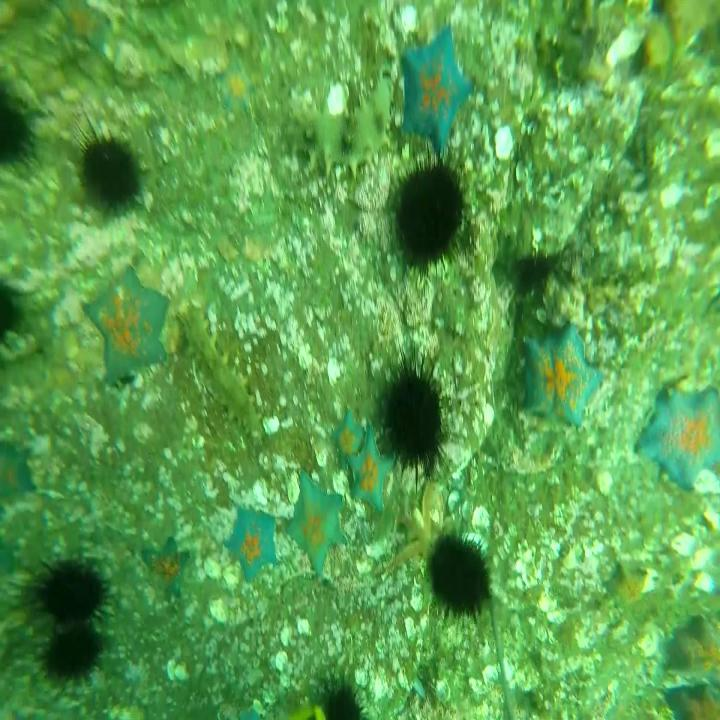echinus: (380, 329, 450, 500), (390, 148, 472, 282), (71, 103, 147, 224), (14, 553, 115, 634), (425, 526, 493, 626), (35, 618, 111, 689), (0, 67, 43, 177), (317, 666, 370, 720), (0, 268, 22, 347)
holothurian: (283, 74, 401, 181), (180, 304, 262, 437)
starfish: (634, 366, 720, 498), (80, 265, 171, 387), (398, 22, 474, 152), (517, 322, 603, 431), (286, 463, 350, 580), (345, 420, 397, 520), (225, 501, 281, 588), (662, 608, 720, 687), (142, 532, 192, 605), (0, 436, 37, 507), (665, 675, 720, 720), (219, 53, 257, 116), (332, 404, 368, 468), (604, 561, 647, 611)
